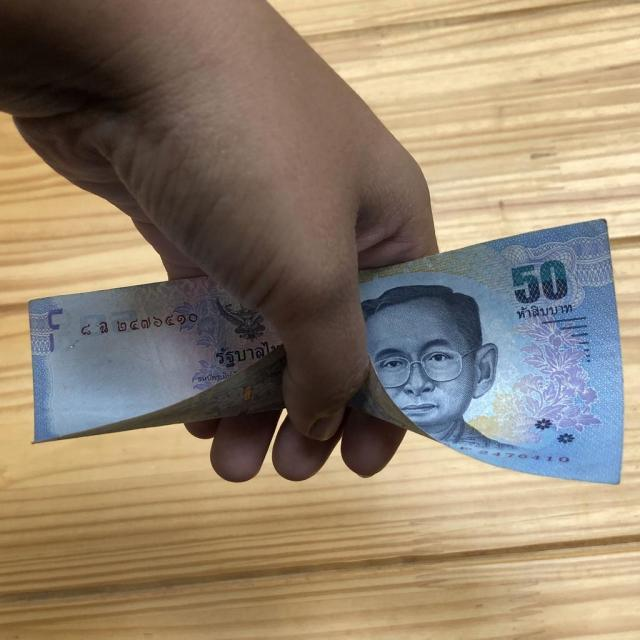THAI50: (349, 220, 625, 486), (27, 276, 286, 444)
